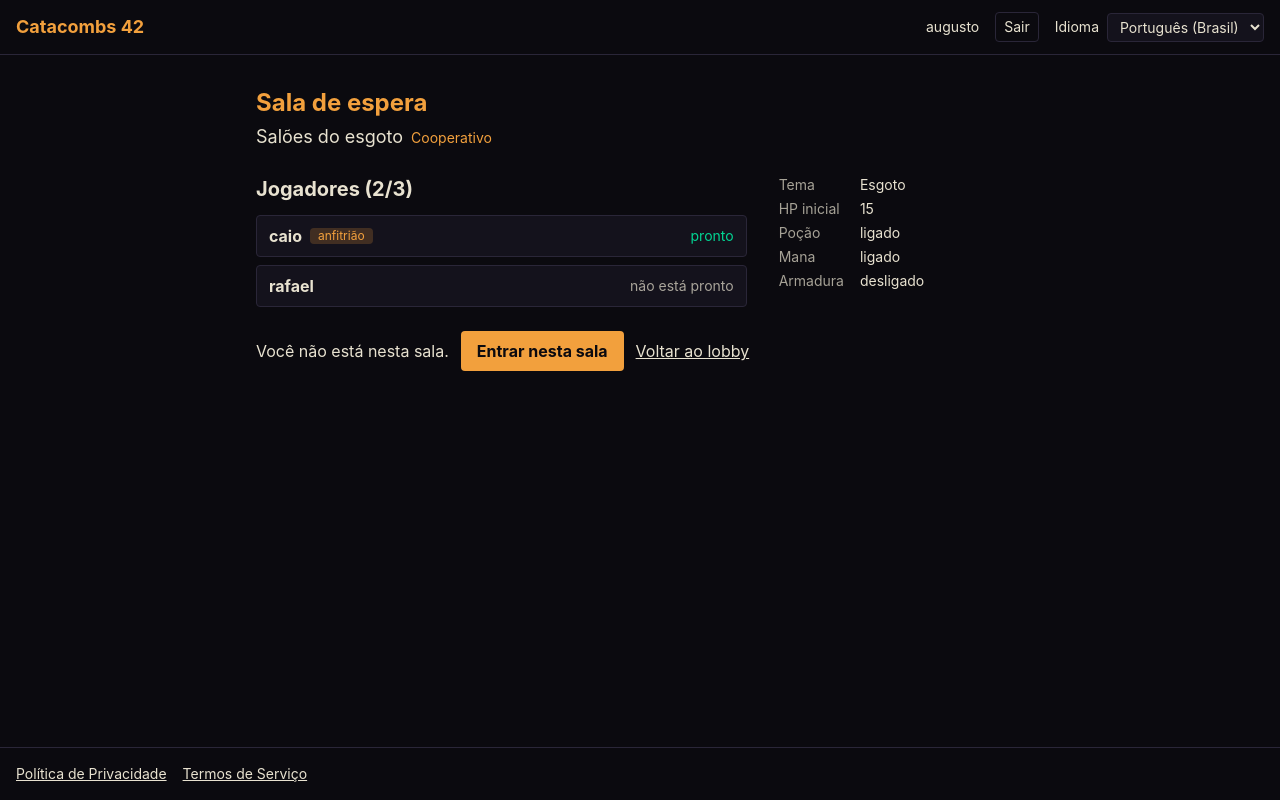
Test: sala de espera de quem não é anfitrião › entra pela URL, não vê Iniciar e espera o anfitrião
Click the button "Entrar nesta sala" at (542, 351), box [461,331,624,371]
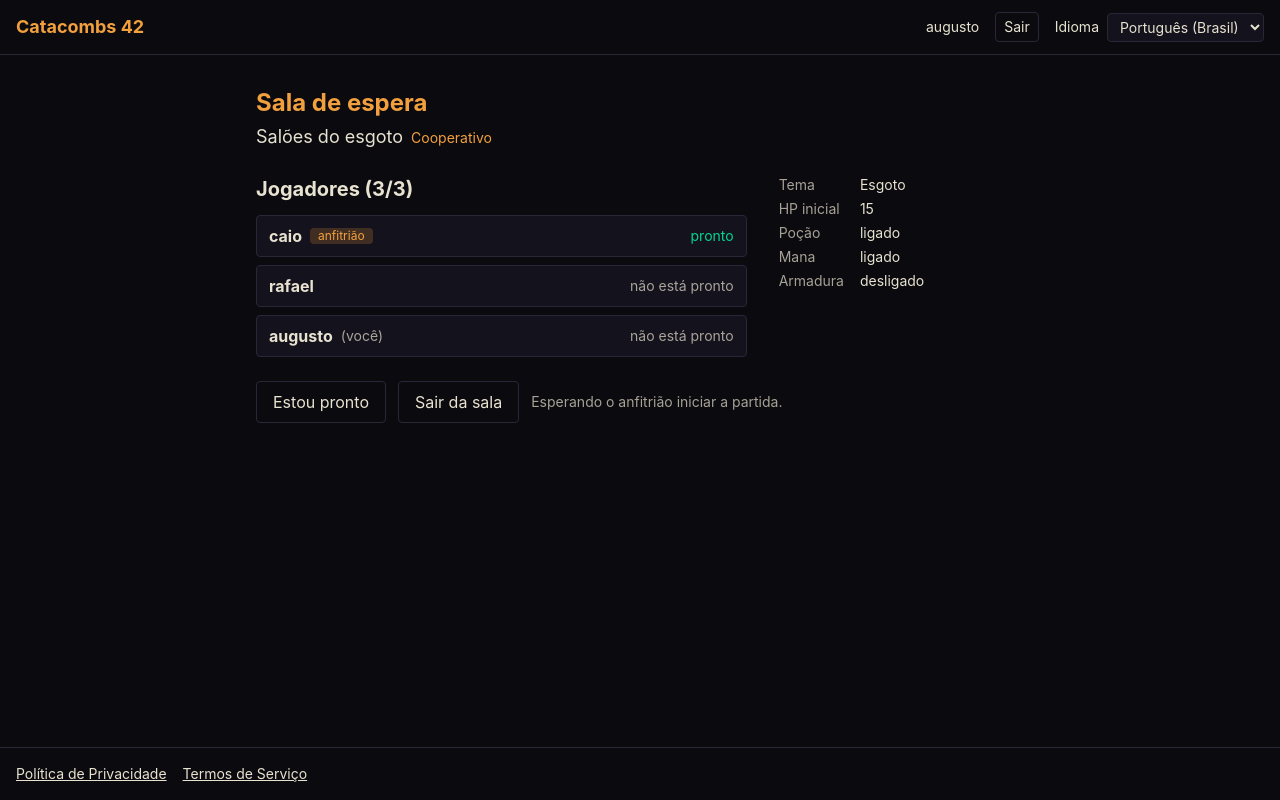
Expected: the heading "Jogadores (3/3)" is shown, [256,177,413,201]
Expected: the text "Esperando o anfitrião iniciar a partida." is shown, [531,392,782,412]
